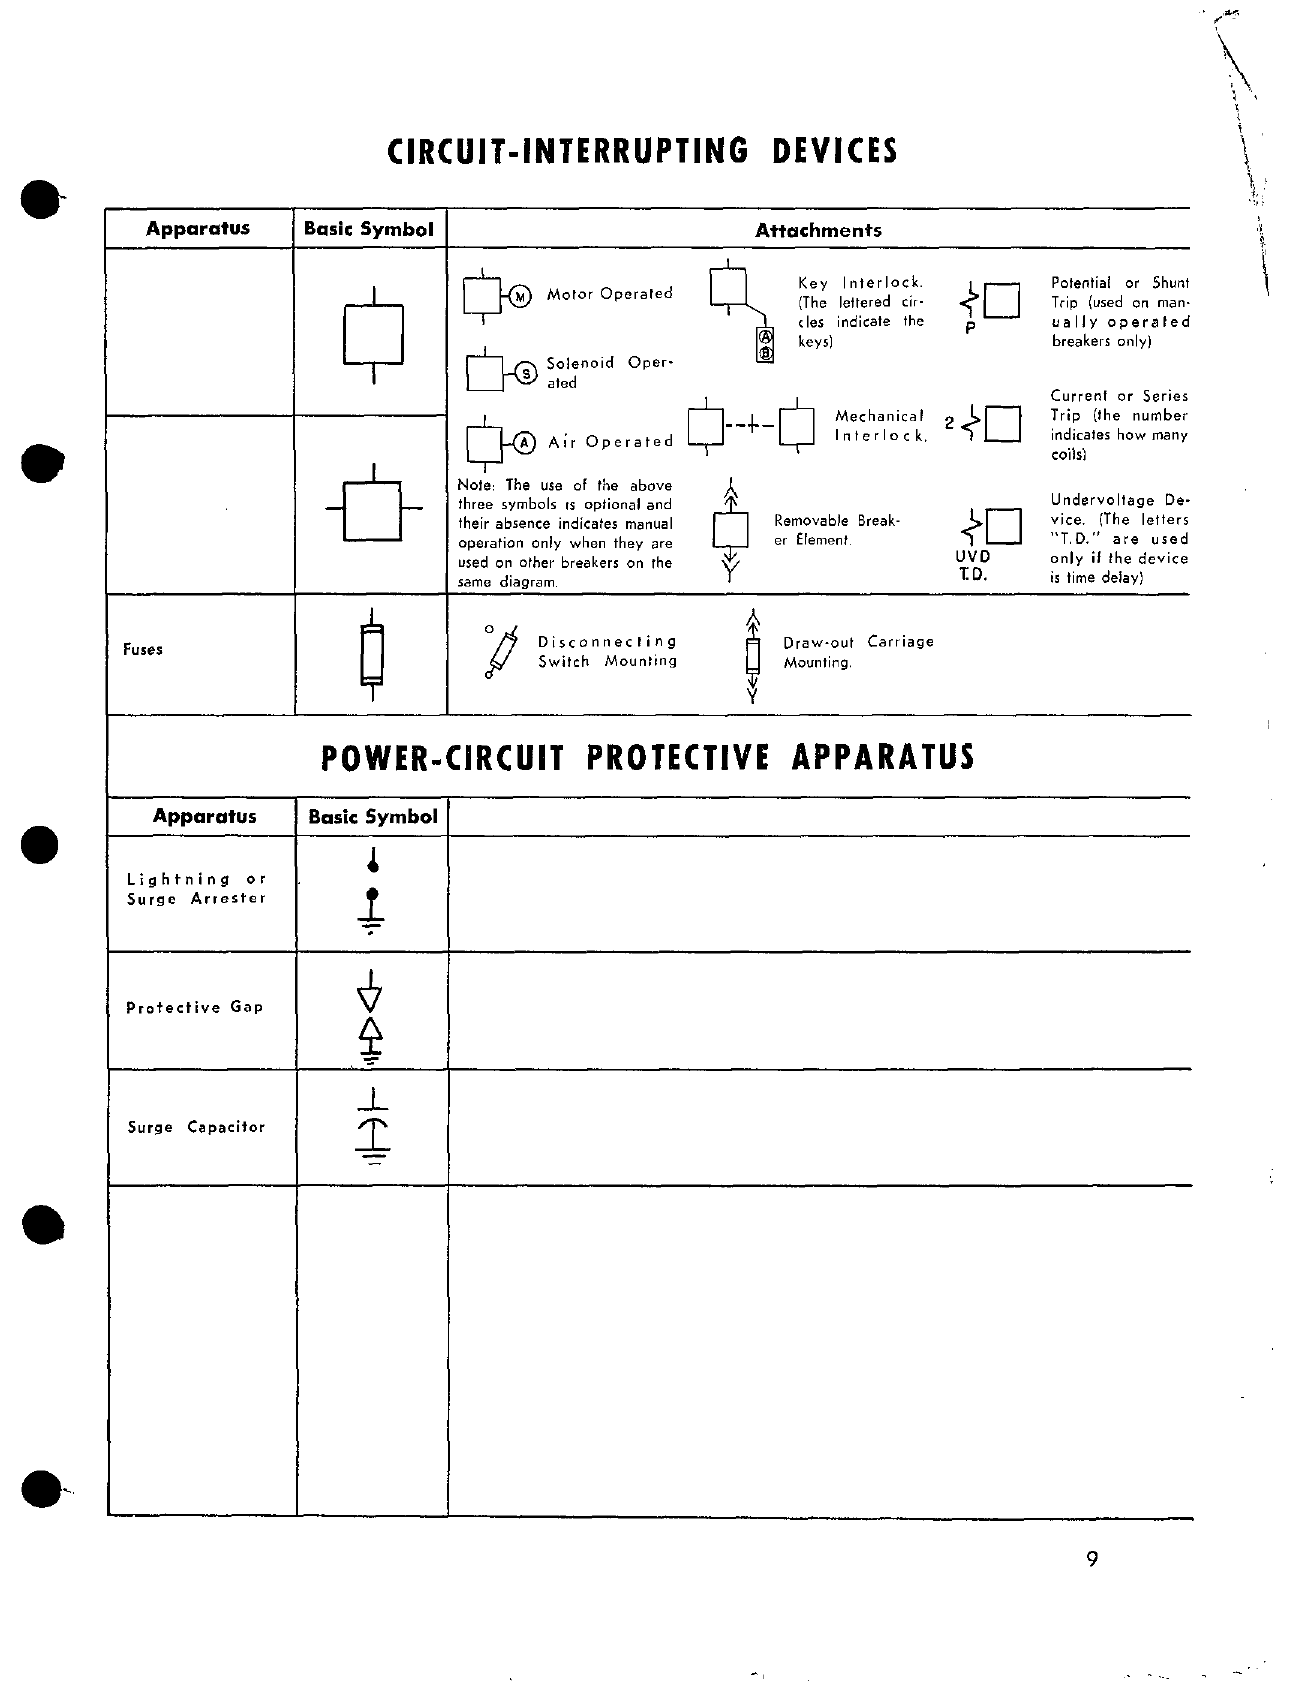fuse: (344, 595, 415, 705), (721, 598, 776, 708), (473, 606, 527, 682)
ground: (341, 905, 404, 945), (344, 1140, 409, 1174), (348, 1045, 400, 1067)
